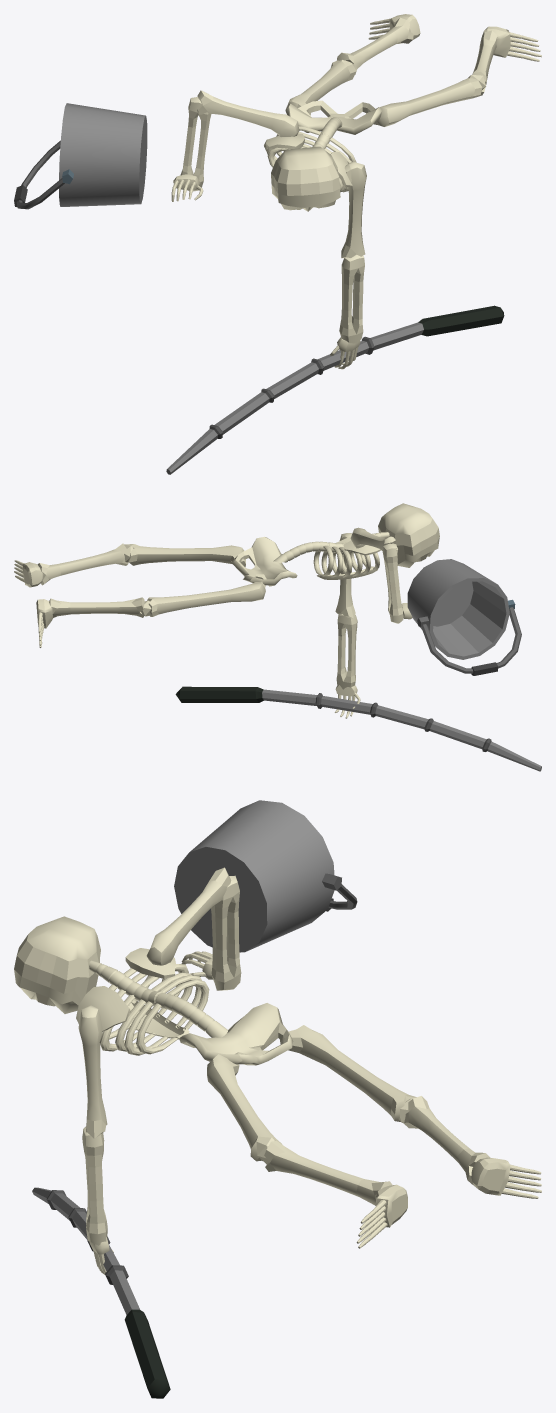
The model's file is Pescador2.fbx.
3 views of the same model, one above another, from view 1: azimuth 30°, elevation 25°; view 2: azimuth 150°, elevation 25°; view 3: azimuth 270°, elevation 25° (orthographic). The views are drawn at different scales.
Parts seen in each view (by area): view 1: Pescador2; view 2: Pescador2; view 3: Pescador2.
Part boxes in pixels (x1=…): Pescador2: x1=14, y1=14, x2=541, y2=474; Pescador2: x1=14, y1=503, x2=541, y2=771; Pescador2: x1=14, y1=800, x2=541, y2=1398.
Bounding box in the file's own units: 222 × 117 × 142.
